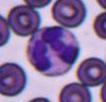N: (27, 26, 79, 78)
